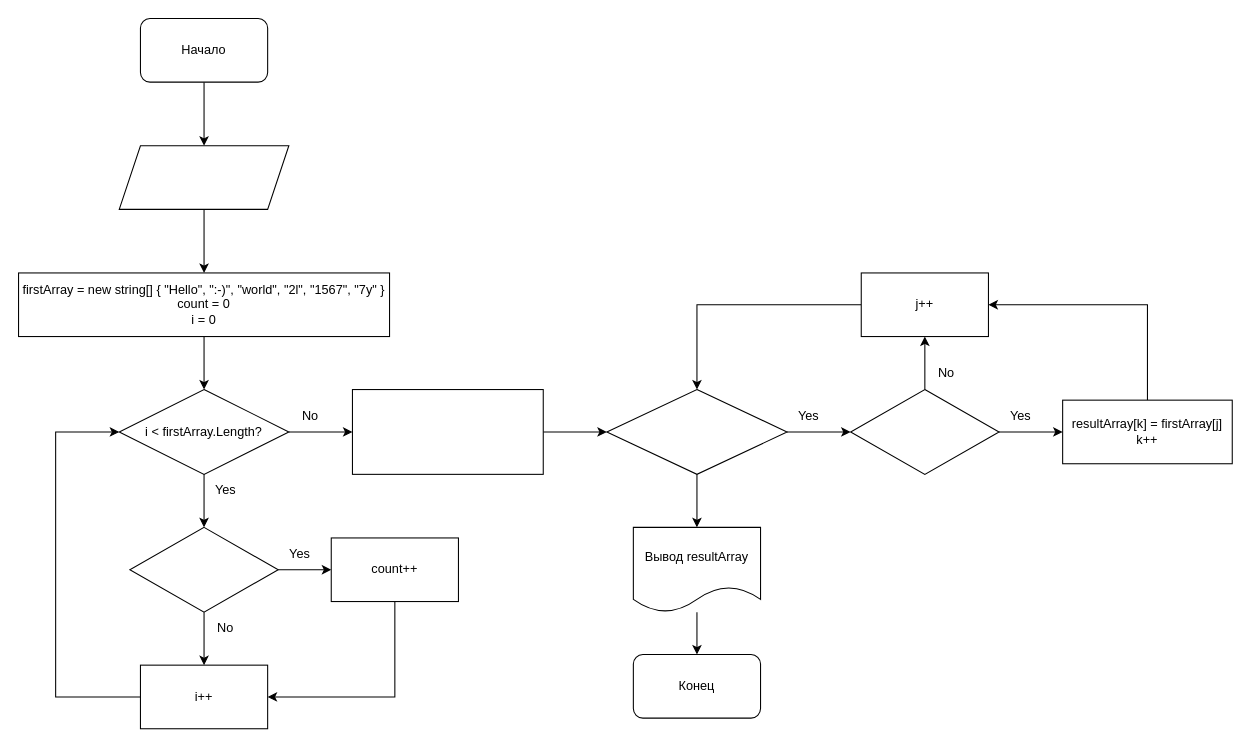
Some shapes in this 1251 by 747 pixel diagram are drawn without their labels. The shapes that lost their labels are listed below. From the top down, each one's centre as x and y in pixels, then its label:
At (203,177): "Ввод firstArray, count, resultArray, i, j, k".
At (447,431): "resultArray = new string[count] j = 0 k = 0".
At (696,431): "j < firstArrayLength?".
At (924,431): "firstArray[j] <= 3?".
At (203,569): "firstArray[i] <= 3?".
